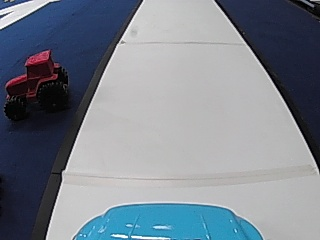tractor: (1, 48, 69, 121)
